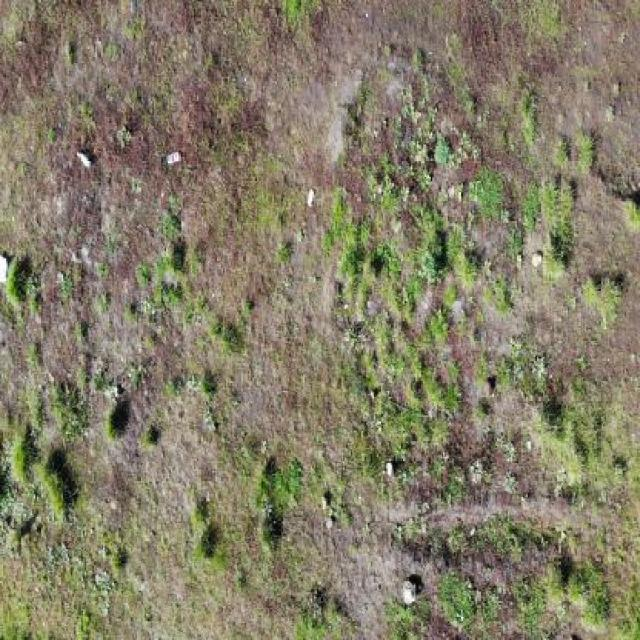Garbage: (74, 152, 91, 169), (165, 150, 181, 165), (305, 188, 315, 209), (0, 255, 7, 283)
